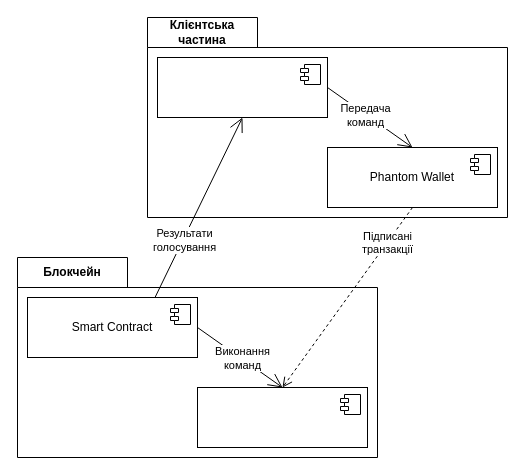
The diagram is 525 pixels wide and 475 high, and some of its shapes have lost their labels. The centre of each missing label's shape, as x and y in pixels:
React Frontend: point (242, 87)
Solana RPC Network: point (282, 417)
